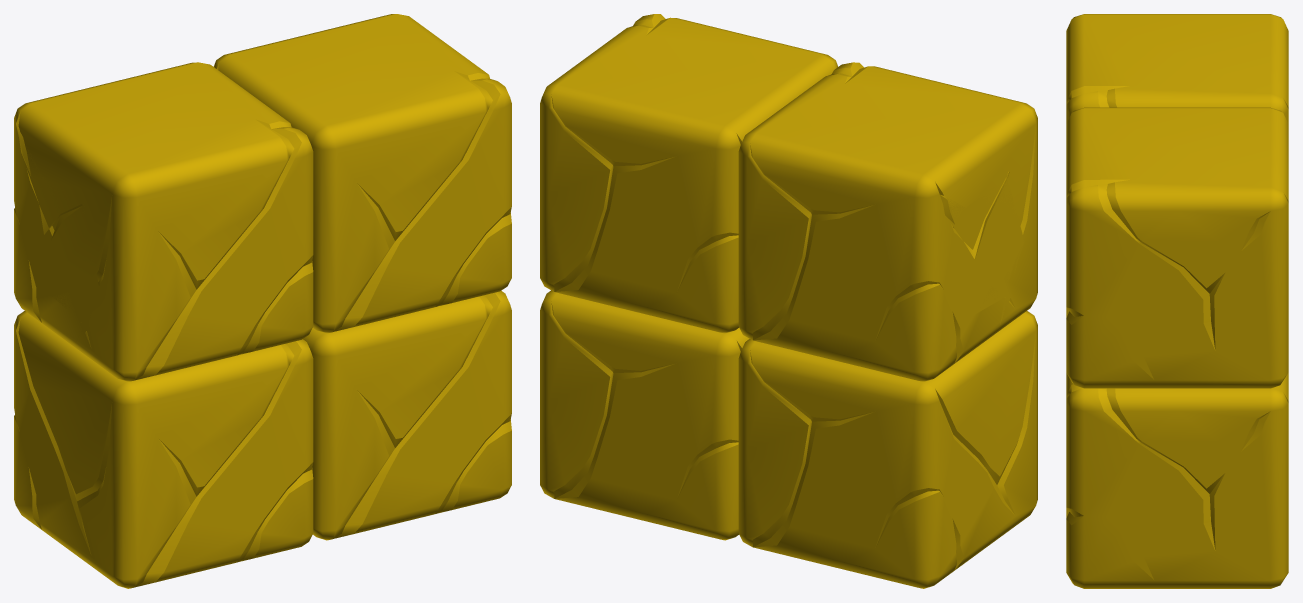
The model's file is destructible.glb.
3 views of the same model, side by side, from view 1: azimuth 30°, elevation 25°; view 2: azimuth 150°, elevation 25°; view 3: azimuth 270°, elevation 25° (orthographic). The views are drawn at different scales.
Parts seen in each view (by area): view 1: Object_3.001, Object_3; view 2: Object_3.001, Object_3; view 3: Object_3, Object_3.001.
Part boxes in pixels (box(x1,y1,x2,y2)): Object_3.001: box(14, 62, 313, 588); Object_3: box(213, 14, 511, 540); Object_3.001: box(738, 62, 1037, 588); Object_3: box(540, 14, 838, 540); Object_3: box(1066, 107, 1288, 588); Object_3.001: box(1066, 14, 1288, 123).
Size of the model in its own units: 8.47 by 8.38 by 4.2.
